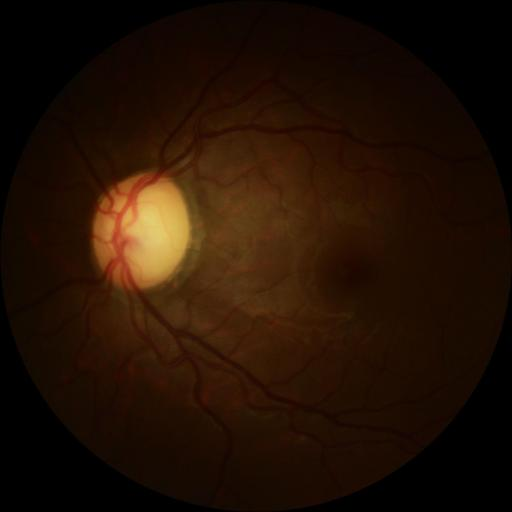Optic Cup: (121, 202, 168, 258)
Optic Disc: (93, 175, 192, 291)
